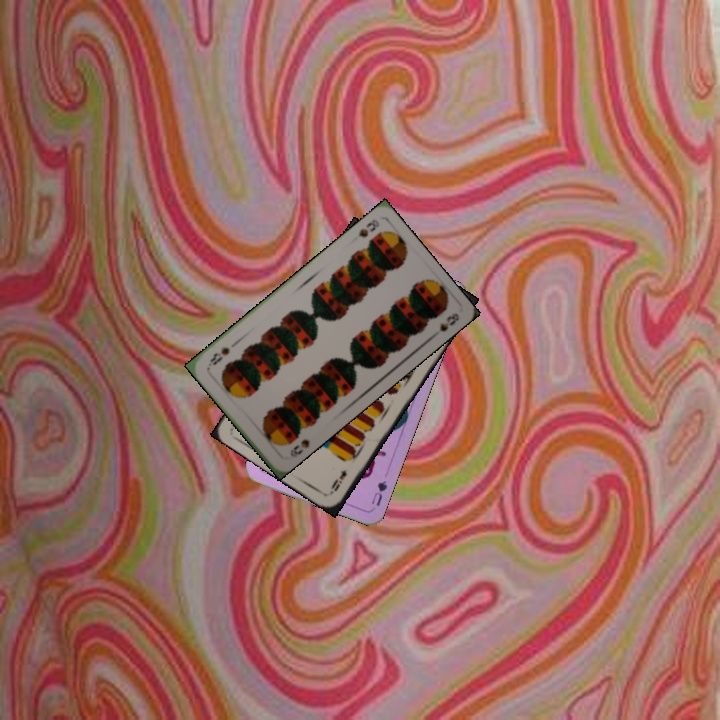E9: (327, 466, 349, 495)
GU: (367, 476, 390, 508)
S8: (354, 215, 382, 240), (286, 435, 312, 460)
